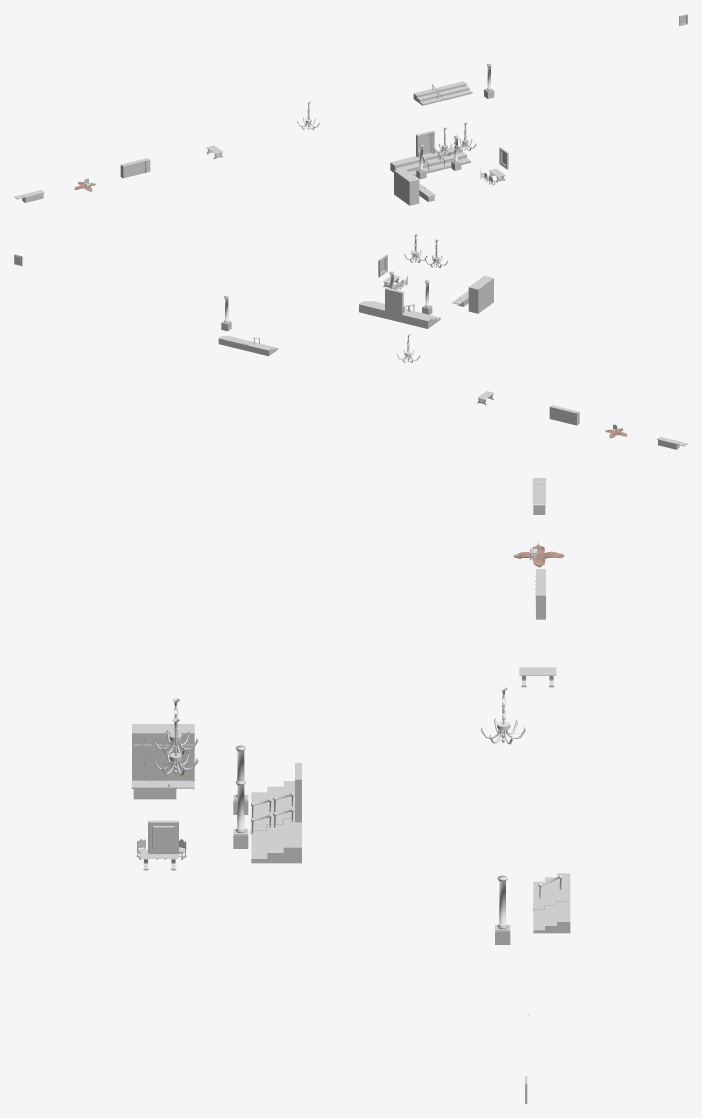
File: SinoCheckIn.fbx
3 views of the same model, one above another, from view 1: azimuth 30°, elevation 25°; view 2: azimuth 150°, elevation 25°; view 3: azimuth 270°, elevation 25° (orthographic). The views are drawn at different scales.
Visible parts, largest first — view 1: Plane.003, EscadaPrincipal, Armarios.001, Armarios, Cube, Armarios.002; view 2: Plane.003, EscadaPrincipal, Armarios.001, Armarios, Cube; view 3: Plane.003, EscadaPrincipal, Armarios.001, Armarios.002, Plane, Cube.004.
Part boxes in pixels (x1,y1,x2,y2): Plane.003: (390, 146, 470, 176); EscadaPrincipal: (413, 81, 472, 105); Armarios.001: (394, 168, 419, 193); Armarios: (120, 158, 150, 178); Cube: (416, 130, 434, 157); Armarios.002: (394, 182, 419, 205); Plane.003: (359, 301, 440, 328); EscadaPrincipal: (218, 336, 278, 356); Armarios.001: (468, 275, 493, 301); Armarios: (549, 405, 579, 425); Cube: (385, 287, 403, 314); Plane.003: (250, 781, 301, 863); EscadaPrincipal: (533, 873, 570, 933); Armarios.001: (132, 724, 194, 757); Armarios.002: (132, 757, 194, 781); Plane: (148, 820, 178, 855); Cube.004: (131, 780, 194, 799).
Bounding box in the file's own units: 23886 × 2040 × 6785.
